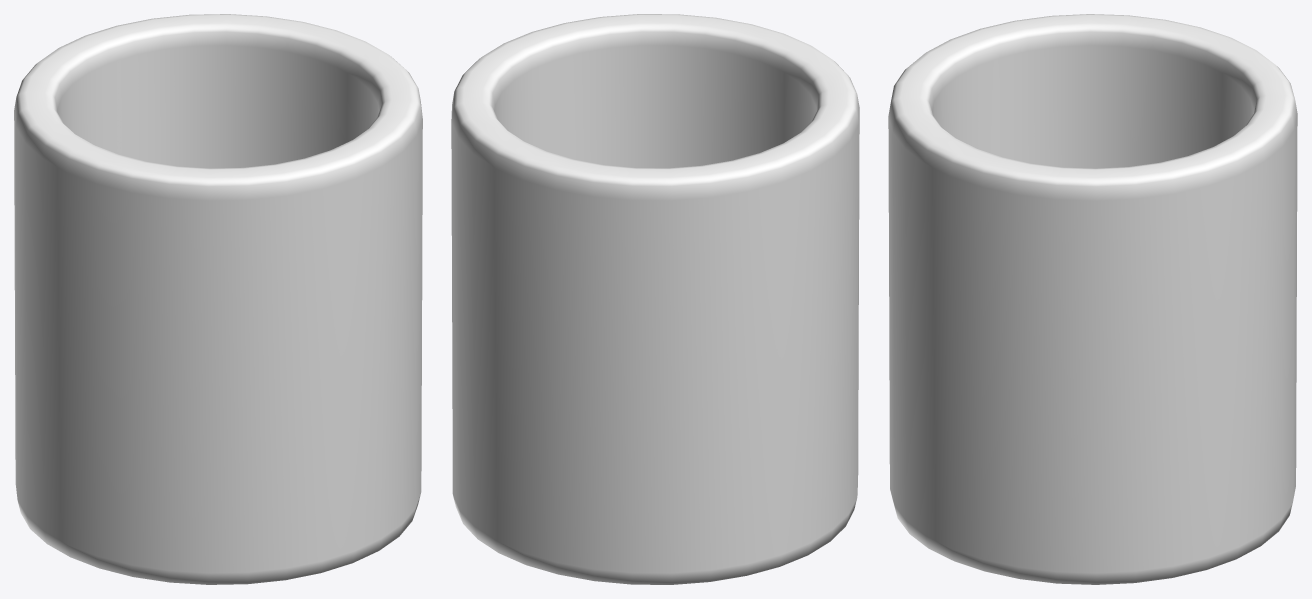
The model's file is SM_jar_base.glb.
3 views of the same model, side by side, from view 1: azimuth 30°, elevation 25°; view 2: azimuth 150°, elevation 25°; view 3: azimuth 270°, elevation 25° (orthographic).
Visible parts, largest first — view 1: SM_jar_base; view 2: SM_jar_base; view 3: SM_jar_base.
Part boxes in pixels (bbox=[...]): SM_jar_base: bbox=[14, 14, 422, 584]; SM_jar_base: bbox=[451, 14, 859, 584]; SM_jar_base: bbox=[888, 14, 1297, 584].
Size of the model in its own units: 0.1656 by 0.182 by 0.1656.
1 material, 1 textured.
